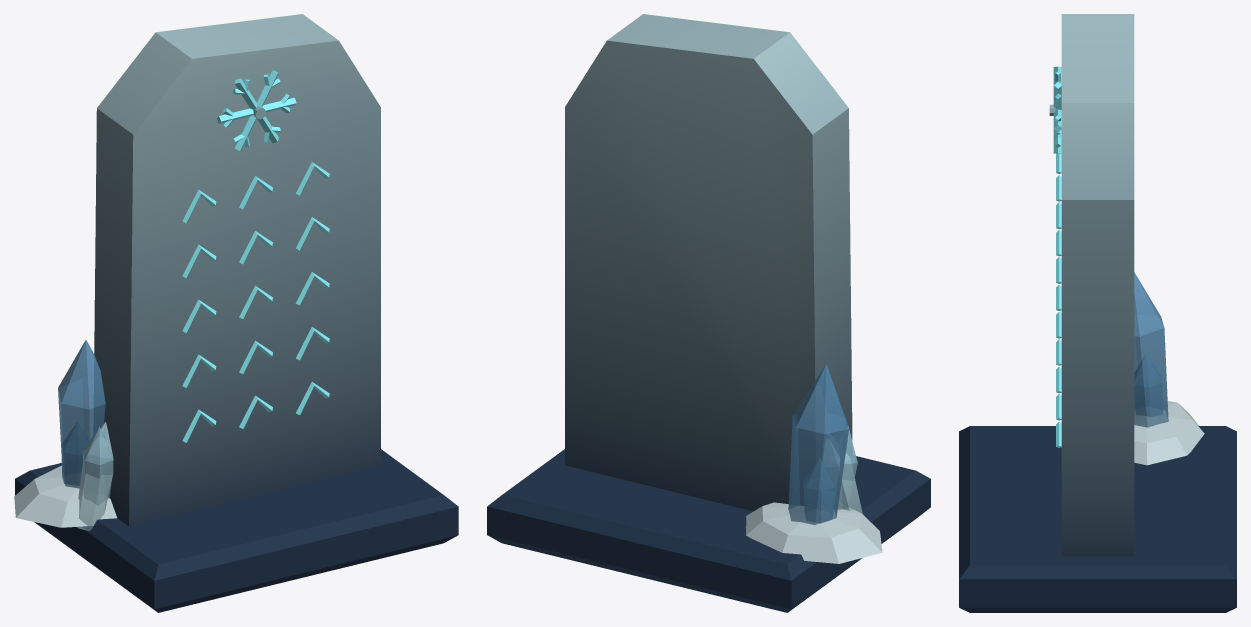
The model's file is lore_stone.fbx.
The picture shows the model from 3 angles, left to right: view 1: azimuth 30°, elevation 25°; view 2: azimuth 150°, elevation 25°; view 3: azimuth 270°, elevation 25°; orthographic projection.
Parts seen in each view (by area): view 1: lore_stone; view 2: lore_stone; view 3: lore_stone.
Part boxes in pixels (x1,y1,x2,y2): lore_stone: (14,14,458,612); lore_stone: (487,14,930,612); lore_stone: (959,14,1236,612).
Bounding box in the file's own units: 1.66 × 2.28 × 1.15.
